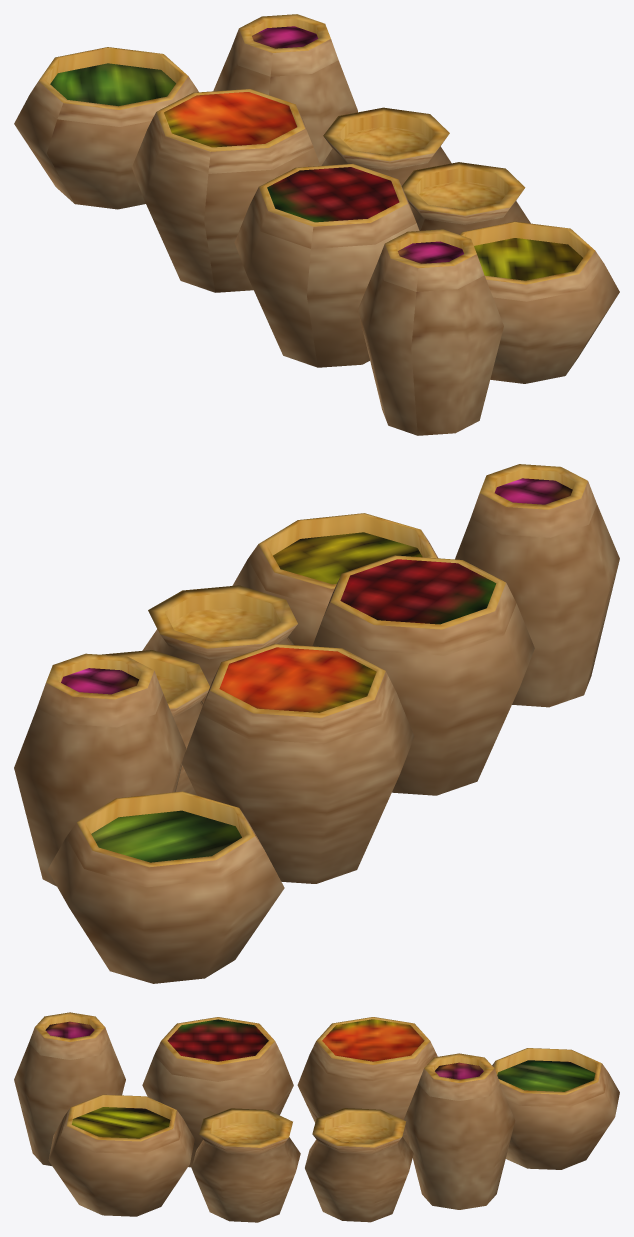
Rendered from canoe_03_02_m.dae.
3 views of the same model, one above another, from view 1: azimuth 30°, elevation 25°; view 2: azimuth 150°, elevation 25°; view 3: azimuth 270°, elevation 25° (orthographic). The views are drawn at different scales.
Visible parts, largest first — view 1: prop_canoe_merc; view 2: prop_canoe_merc; view 3: prop_canoe_merc.
Boxes of the visible parts, left/top/right/bottom form: prop_canoe_merc: left=14, top=14, right=619, bottom=435; prop_canoe_merc: left=14, top=464, right=619, bottom=983; prop_canoe_merc: left=14, top=1012, right=619, bottom=1222.
Bounding box in the file's own units: 1.8 × 4.21 × 0.9659.
